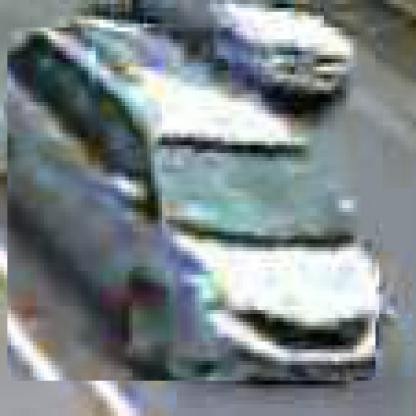car: (9, 29, 381, 386)
